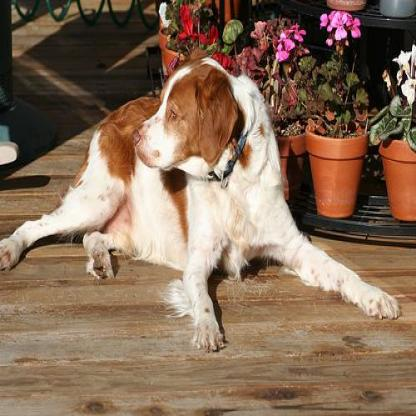Brittany_spaniel: (0, 51, 403, 354)
